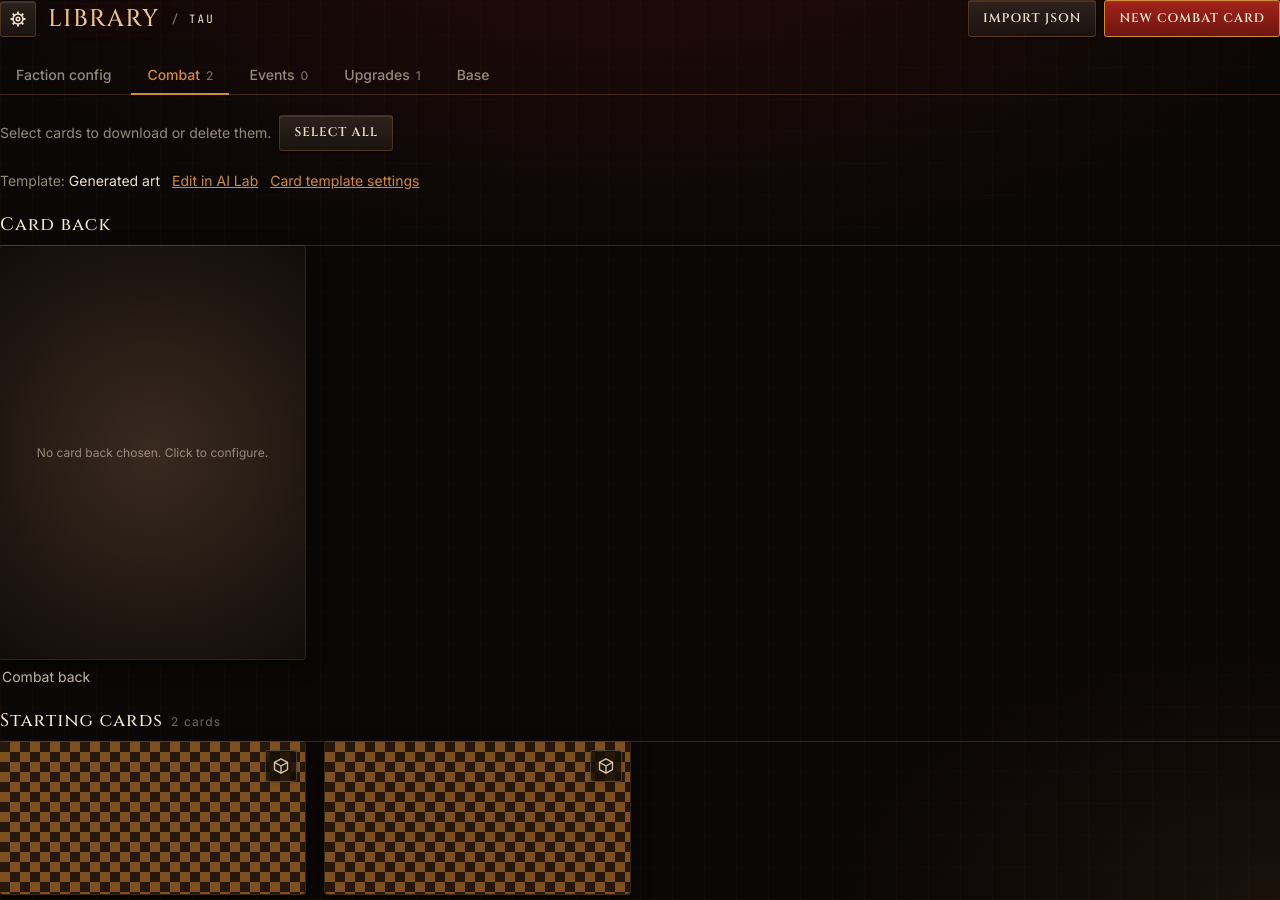
Scenario: library explains why a used template cannot be deleted
The image size is (1280, 900).
Click the button "Card template settings" at point(345, 181), box [270,171,419,191]
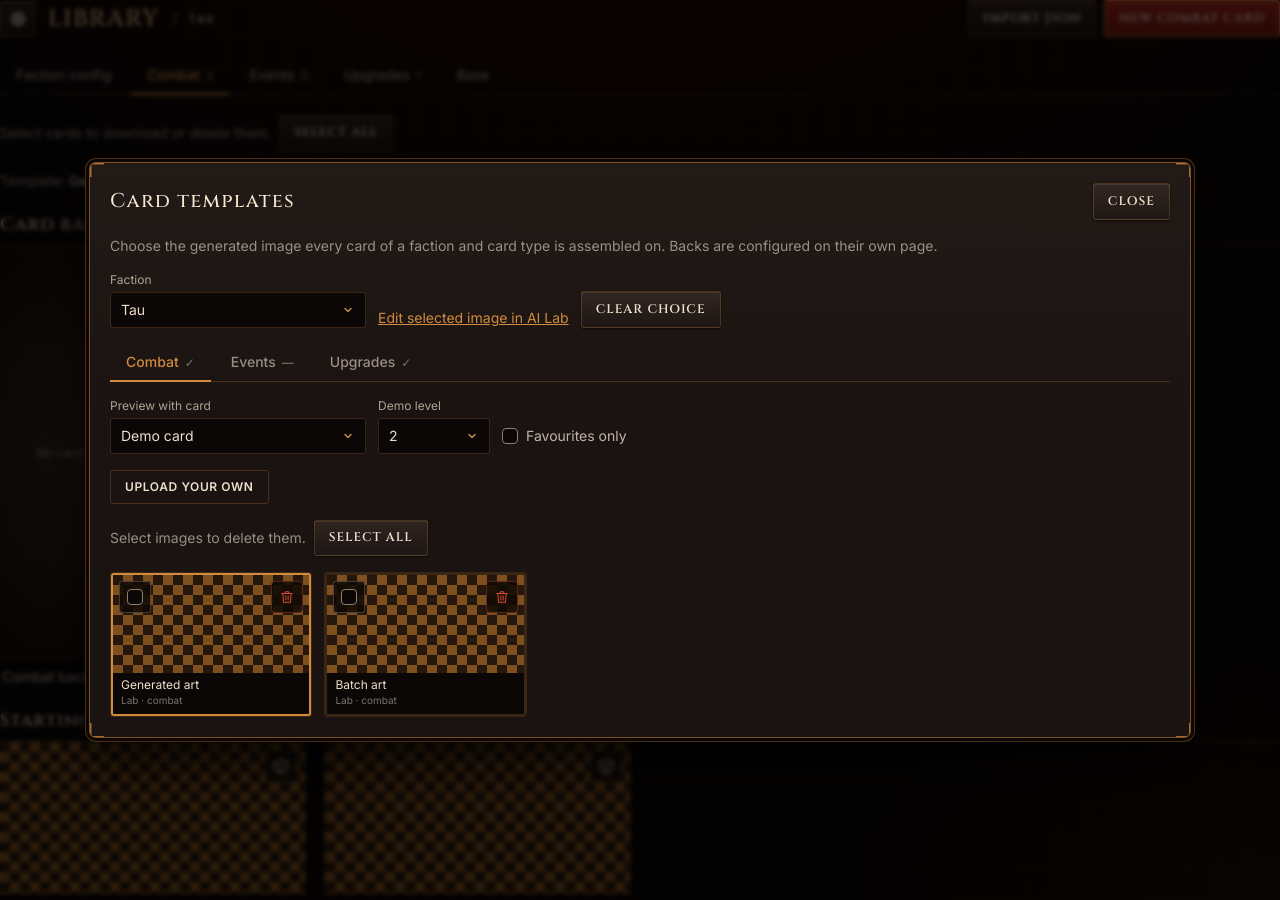
Click the button named "Delete Generated art" at point(287, 597), box [271,581,303,613]
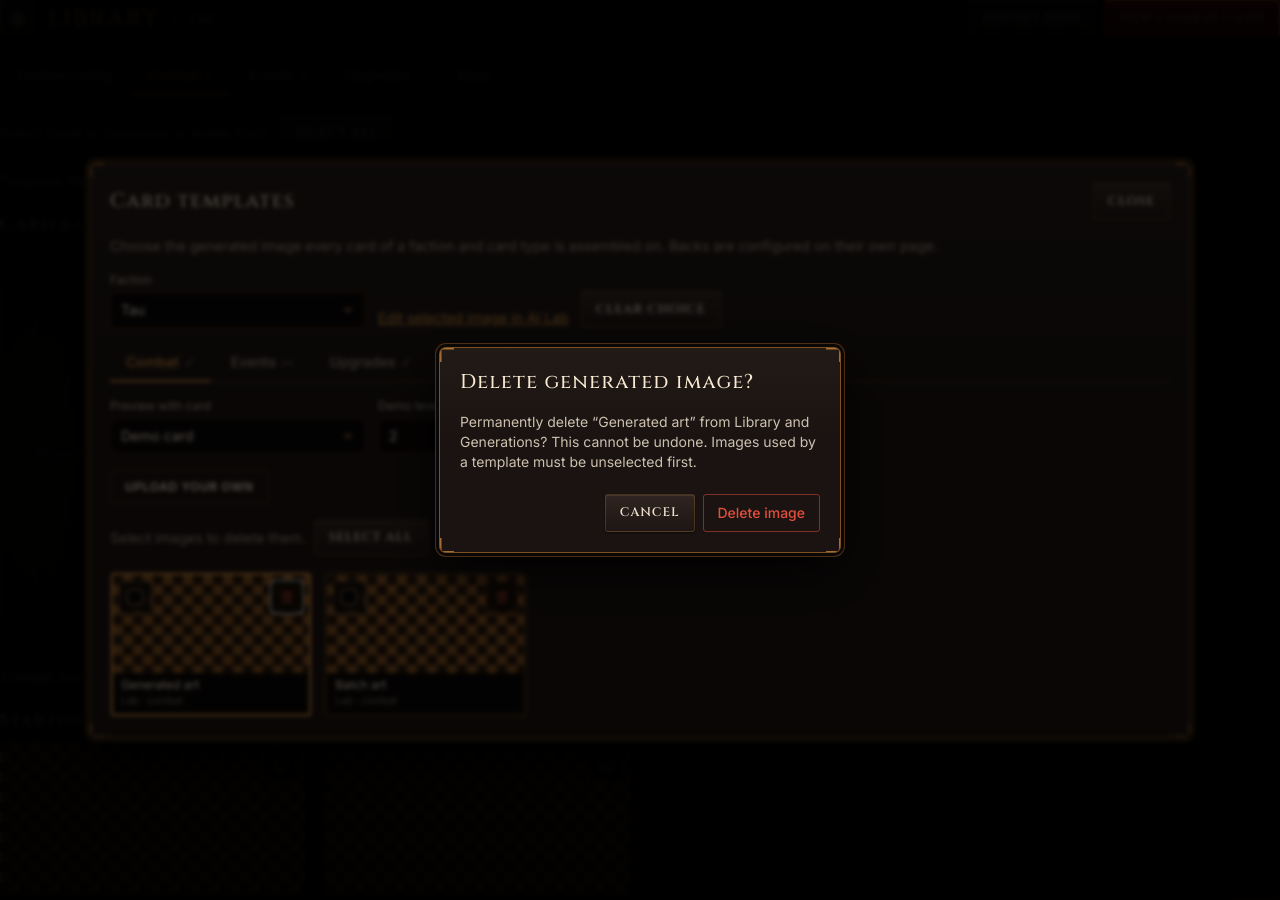
Click the button "Delete image" at point(761, 513), box [702,494,820,532]
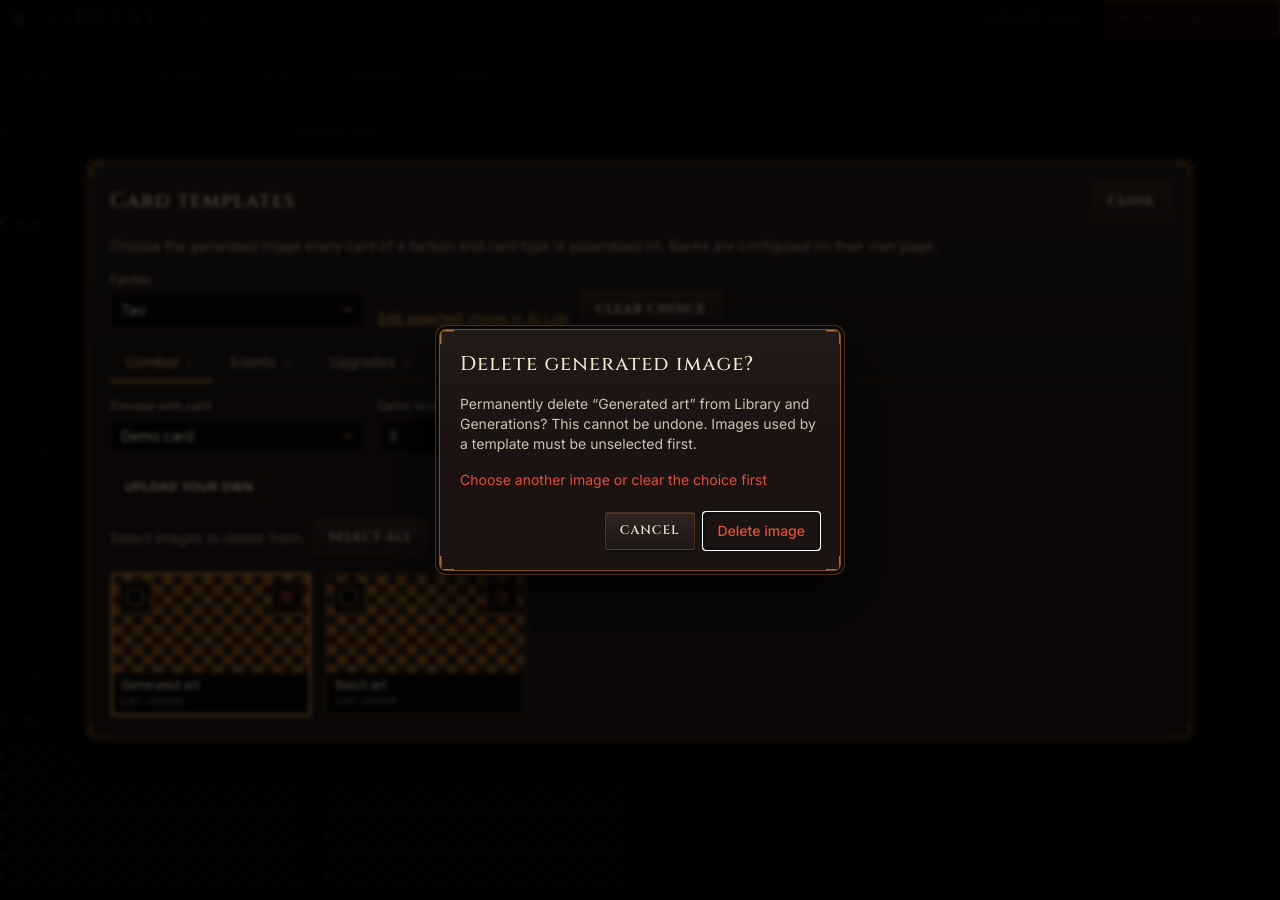
Now the button with aria-label "Use Generated art" is shown, box [111,573,311,716]
Now the message shows "clear the choice first", box [460,471,767,488]
